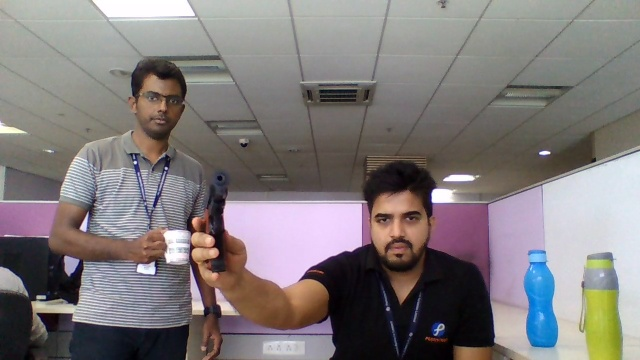gun: (207, 169, 227, 233)
